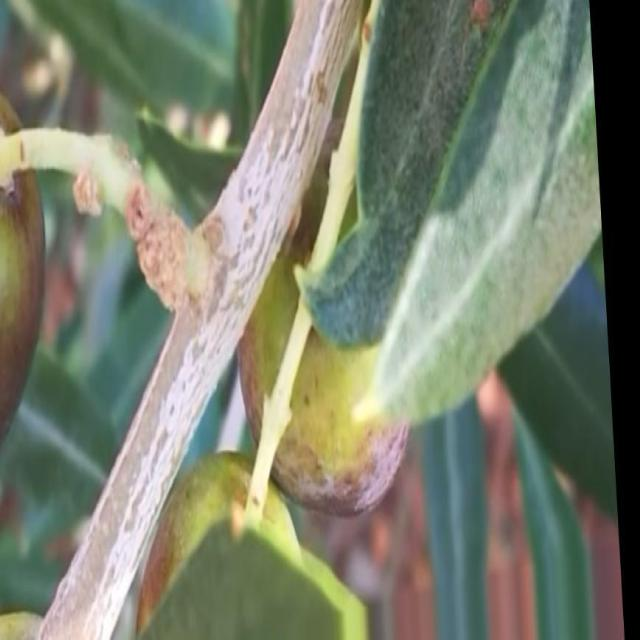Tuberculosis: (125, 178, 202, 311), (72, 169, 102, 216)
